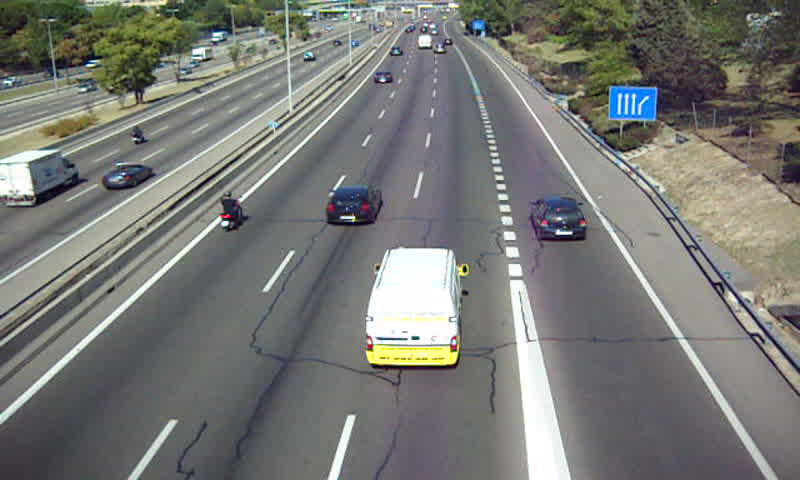car: (528, 197, 587, 241), (325, 184, 382, 228), (373, 69, 394, 86)
motorcycle: (217, 190, 244, 233)
van: (365, 248, 463, 367)
